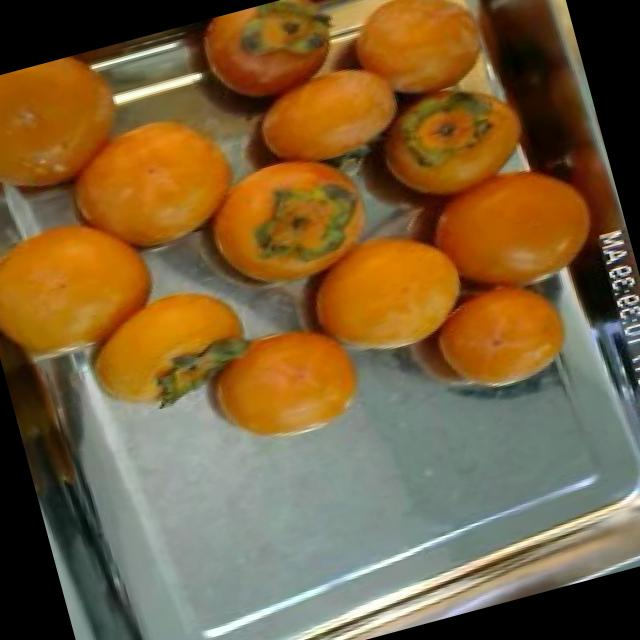Fruit: (277, 202, 488, 384), (176, 308, 392, 472), (394, 255, 595, 424)
